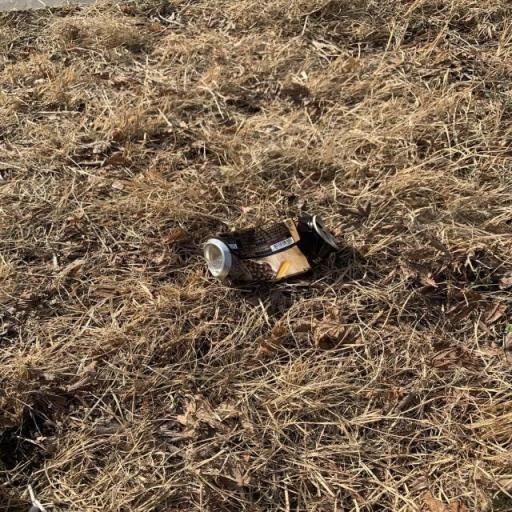metal: (166, 194, 372, 297)
